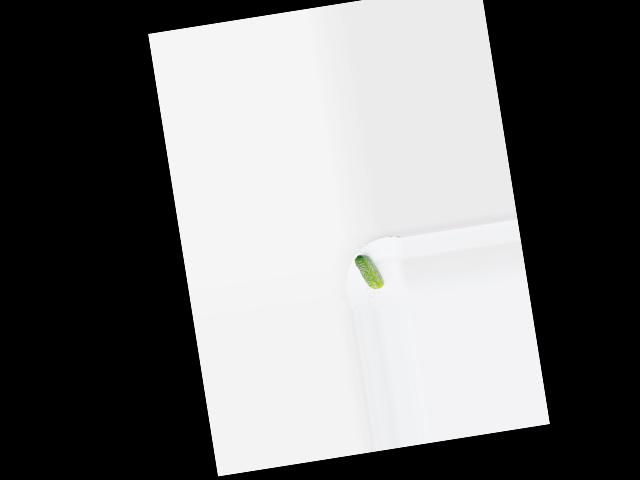cucumber: (354, 252, 385, 291)
